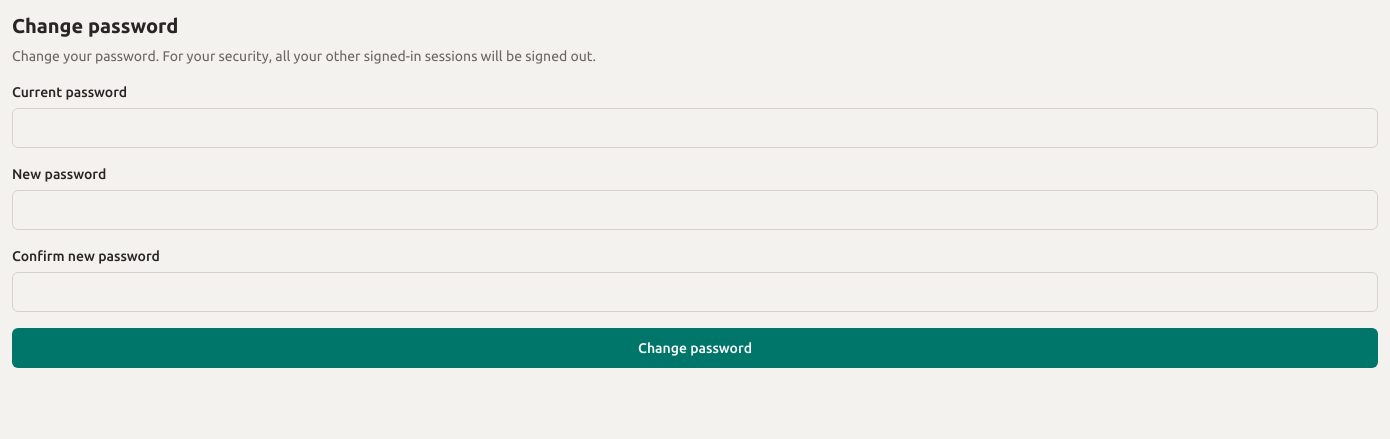
Test: ChangePasswordForm — step-up 401 › first 401 → refresh() once → retry RESOLVES → success + fields cleared (NIT 3)
Type "current-pw-12" into the password field labelled "Current password". click: (695, 128)
box: top-left (12, 108), bottom-right (1378, 148)
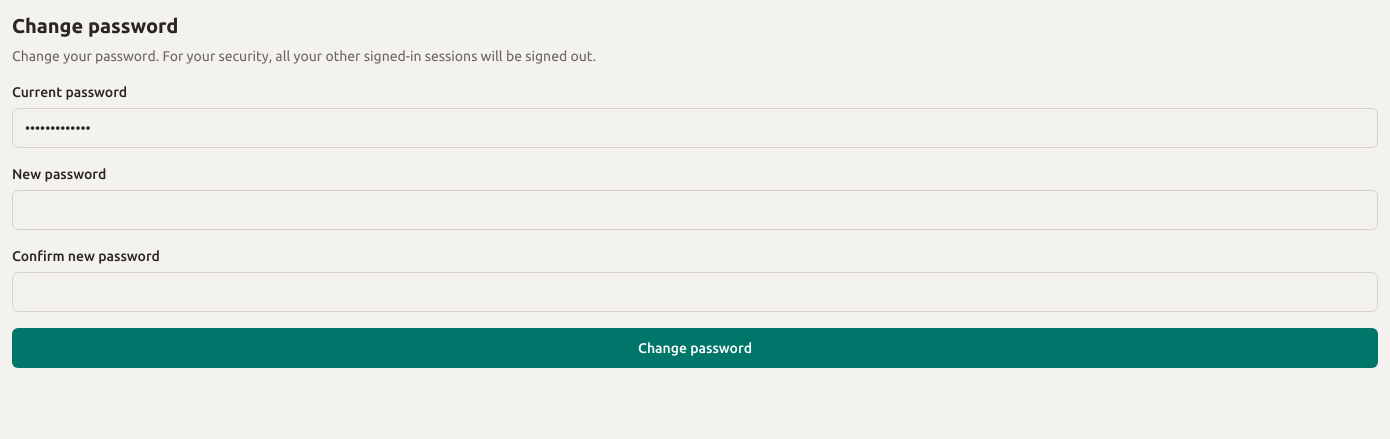
Type "new-password-12+" into the password field labelled "New password". click: (695, 210)
box: top-left (12, 190), bottom-right (1378, 230)
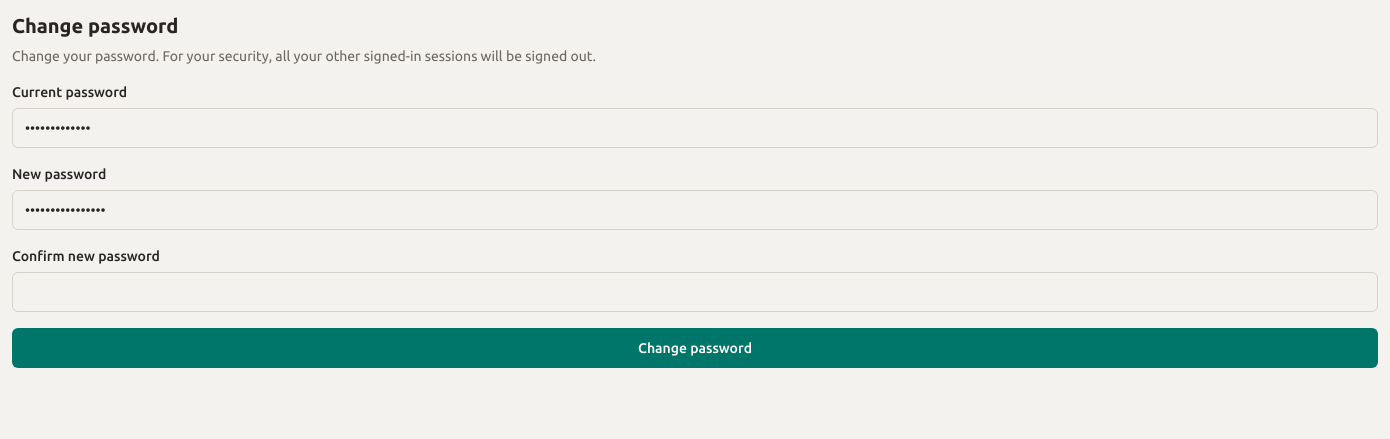
Type "new-password-12+" into the password field labelled "Confirm new password". click: (695, 292)
box: top-left (12, 272), bottom-right (1378, 312)
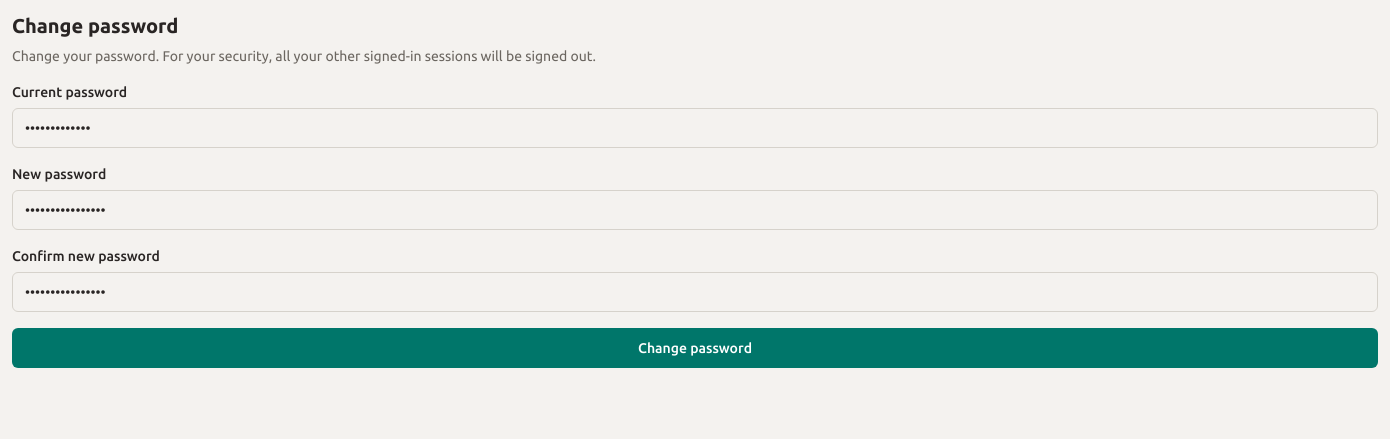
Submit the form
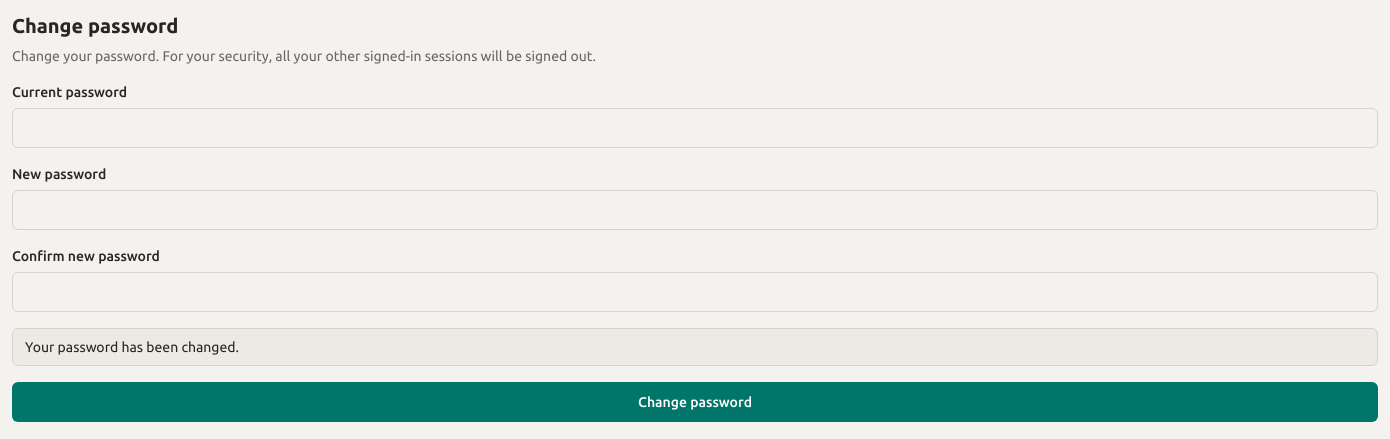
Now the message shows "password has been changed", box top-left (25, 339), bottom-right (239, 355)
Now the password field labelled "New password" is empty, box top-left (12, 190), bottom-right (1378, 230)
